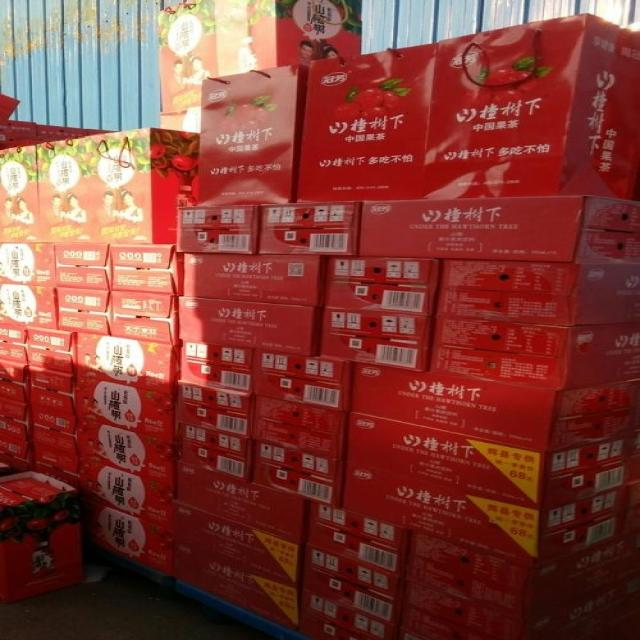box: (419, 12, 640, 204), (342, 461, 640, 567), (347, 411, 640, 510), (156, 1, 364, 132), (351, 361, 640, 452), (293, 41, 438, 203), (406, 531, 640, 617), (357, 196, 640, 263), (195, 63, 312, 209), (430, 317, 640, 390), (435, 259, 640, 327), (92, 125, 205, 245), (172, 503, 302, 590), (169, 544, 298, 631), (175, 464, 308, 544), (179, 297, 323, 357), (302, 499, 410, 579), (298, 544, 403, 626), (183, 253, 324, 308), (321, 308, 433, 372), (74, 376, 177, 445), (324, 256, 439, 316), (77, 418, 175, 487), (79, 458, 175, 528), (83, 498, 172, 573), (76, 331, 178, 396), (36, 138, 99, 243), (250, 440, 344, 509), (253, 351, 356, 411), (252, 396, 347, 461), (259, 201, 360, 256), (0, 145, 51, 245), (296, 592, 396, 639), (178, 423, 255, 482), (177, 382, 252, 438), (179, 340, 255, 395), (177, 204, 259, 254), (111, 291, 179, 346), (110, 244, 183, 295), (54, 243, 110, 290), (0, 283, 56, 329), (56, 288, 110, 335), (0, 243, 56, 287), (29, 406, 77, 456), (29, 442, 78, 490), (28, 327, 76, 375), (28, 367, 74, 417), (0, 397, 31, 443), (0, 360, 31, 406), (0, 323, 29, 366), (0, 431, 29, 472)
